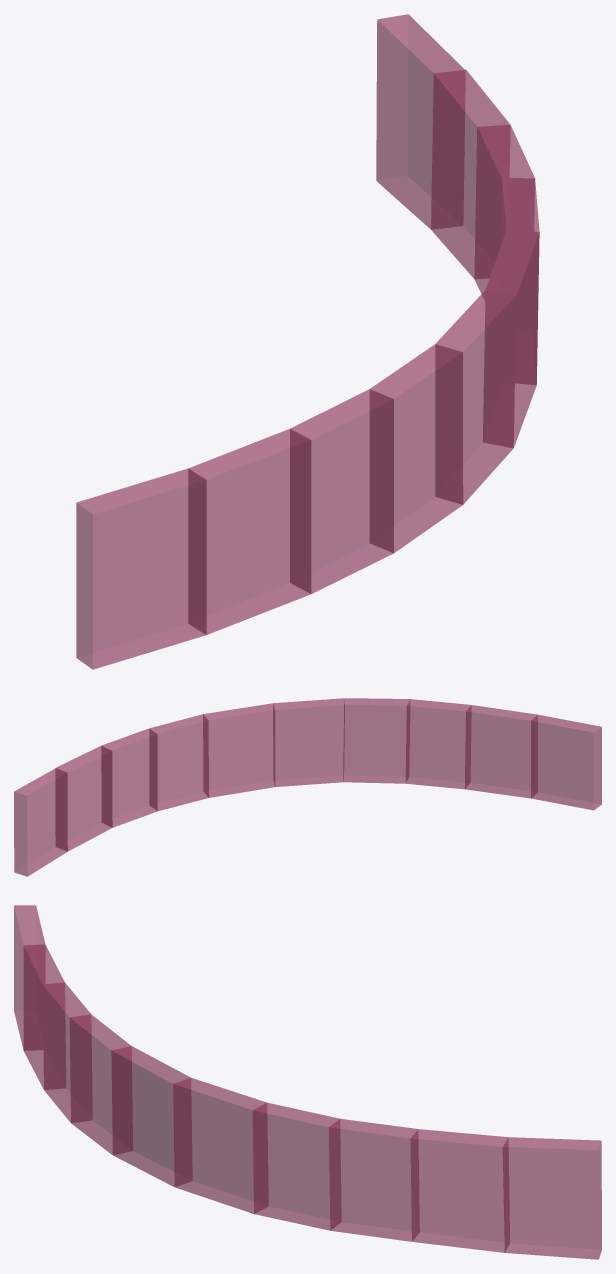
The model's file is SM_Bld_Stairs_Railing_Round_03_Collision.fbx.
3 views of the same model, one above another, from view 1: azimuth 30°, elevation 25°; view 2: azimuth 150°, elevation 25°; view 3: azimuth 270°, elevation 25° (orthographic). The views are drawn at different scales.
Parts seen in each view (by area): view 1: SM_Bld_Stairs_Railing_Round_03_Collision; view 2: SM_Bld_Stairs_Railing_Round_03_Collision; view 3: SM_Bld_Stairs_Railing_Round_03_Collision.
Boxes of the visible parts, bbox=[...] form: SM_Bld_Stairs_Railing_Round_03_Collision: bbox=[76, 14, 539, 669]; SM_Bld_Stairs_Railing_Round_03_Collision: bbox=[14, 698, 601, 876]; SM_Bld_Stairs_Railing_Round_03_Collision: bbox=[14, 905, 601, 1259].
Size of the model in its own units: 382 by 79.18 by 384.
